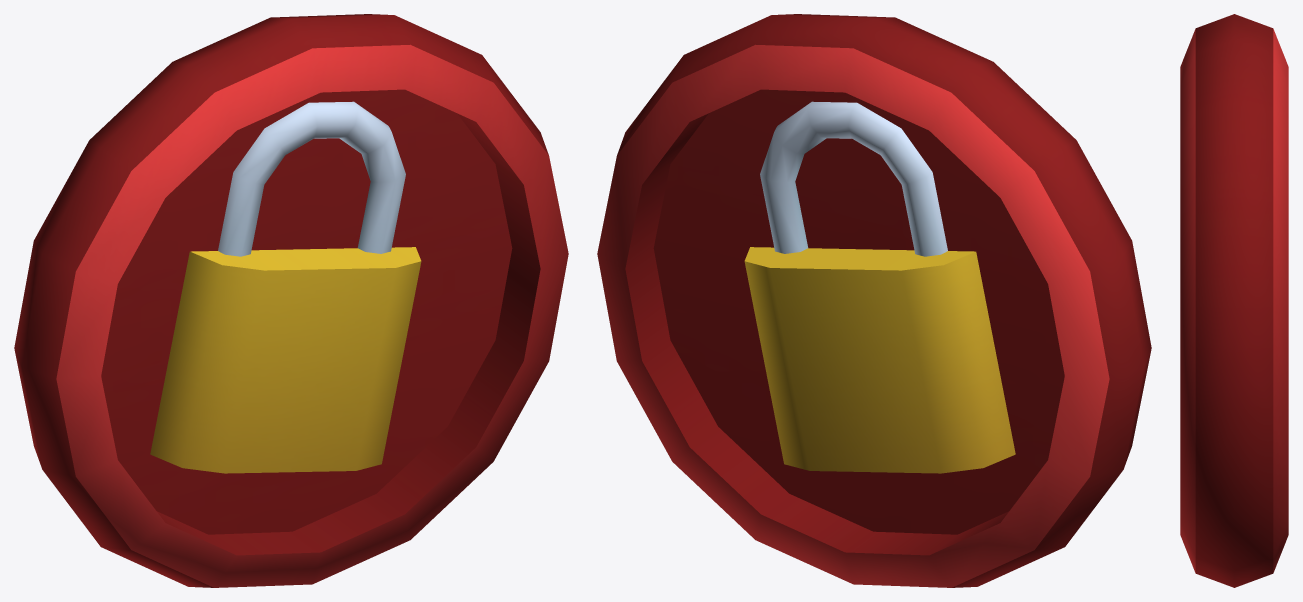
File: ModeIcons.fbx_Locked.fbx
The picture shows the model from 3 angles, left to right: view 1: azimuth 30°, elevation 25°; view 2: azimuth 150°, elevation 25°; view 3: azimuth 270°, elevation 25°; orthographic projection. The views are drawn at different scales.
Visible parts, largest first — view 1: ModeLocked; view 2: ModeLocked; view 3: ModeLocked.
Boxes of the visible parts, x1=… form: ModeLocked: x1=14, y1=14, x2=568, y2=587; ModeLocked: x1=597, y1=14, x2=1151, y2=587; ModeLocked: x1=1180, y1=14, x2=1288, y2=587.
Bounding box in the file's own units: 2 × 2 × 0.3776.
